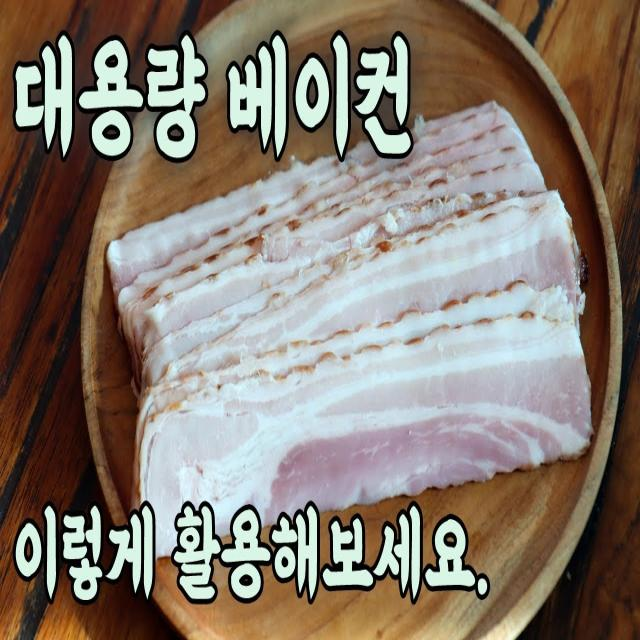bacon: (99, 159, 605, 505)
